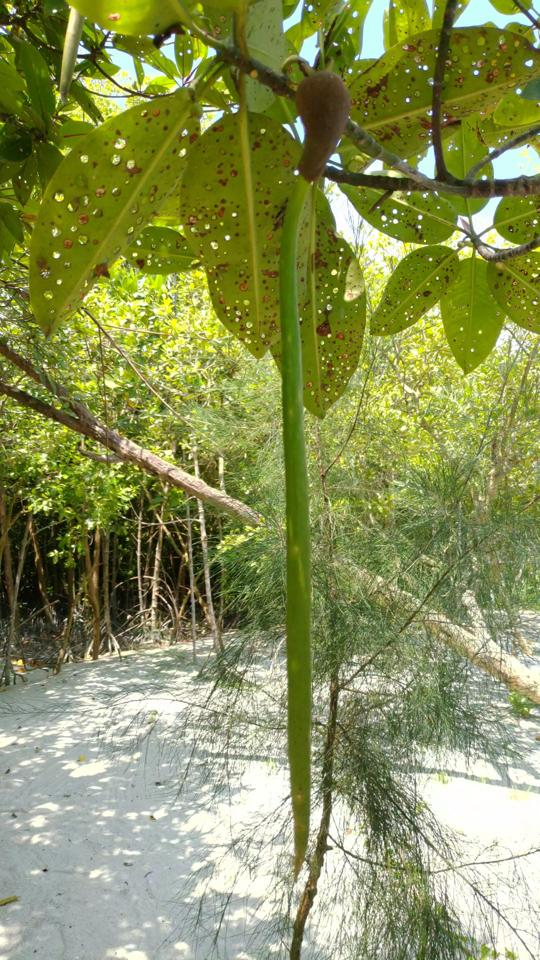mentah: (259, 55, 363, 896)
